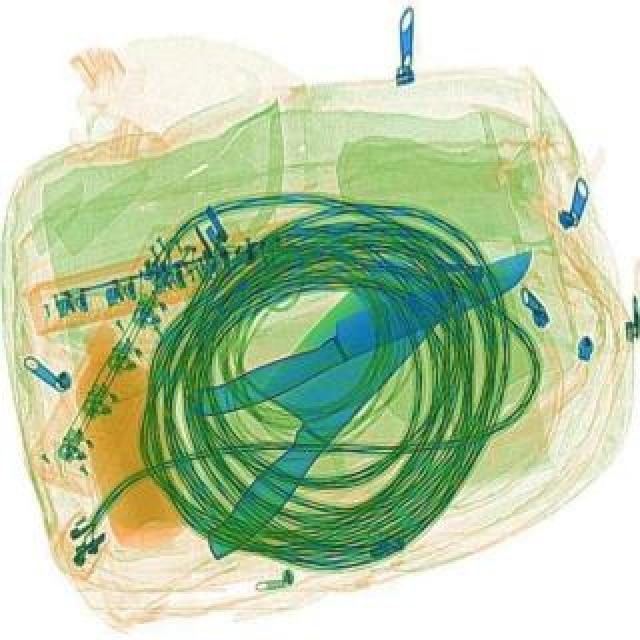knife: (152, 242, 460, 568), (180, 238, 544, 428)
